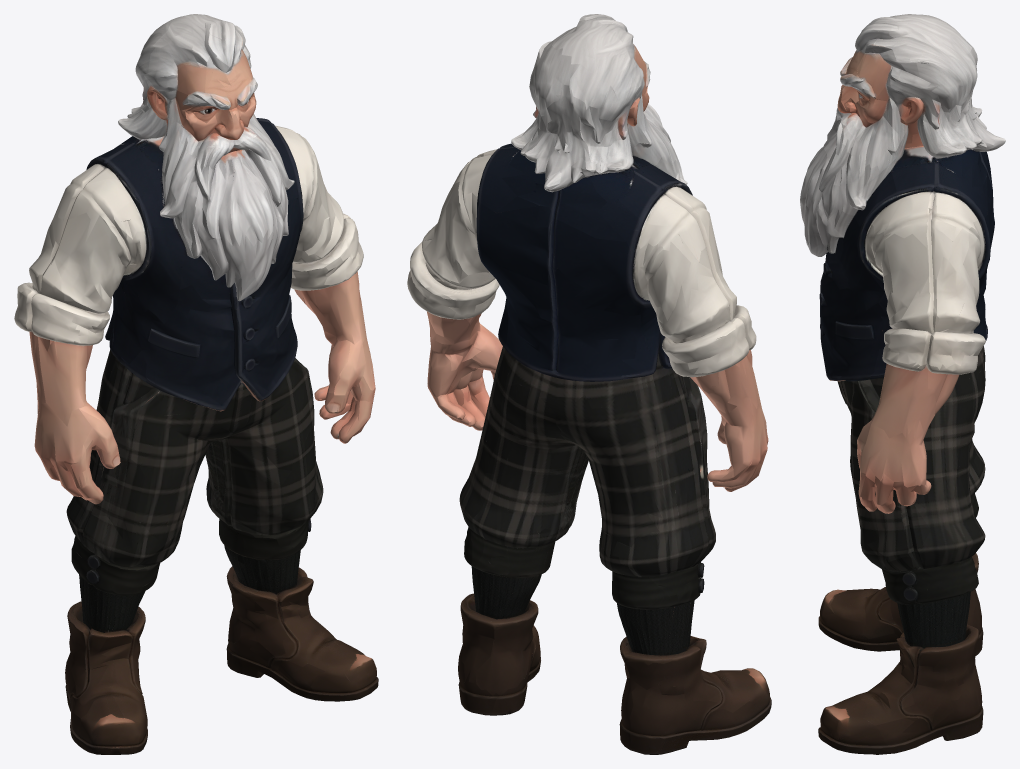
Rendered from wizard_base.glb.
The picture shows the model from 3 angles, left to right: view 1: azimuth 30°, elevation 25°; view 2: azimuth 150°, elevation 25°; view 3: azimuth 270°, elevation 25°; orthographic projection.
Visible parts, largest first — view 1: Mesh_0; view 2: Mesh_0; view 3: Mesh_0.
Part boxes in pixels (x1,y1,x2,y2): Mesh_0: (14, 14, 378, 754); Mesh_0: (407, 14, 771, 754); Mesh_0: (800, 14, 1005, 754).
Bounding box in the file's own units: 0.9758 × 1.9 × 0.5291.
Materials: 1 (1 with a texture image).
